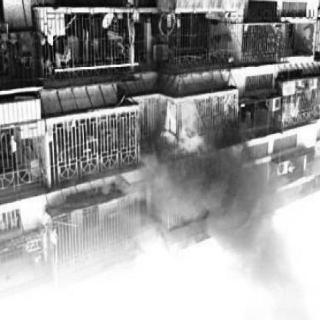Fire: (130, 90, 229, 178)
Smoke: (199, 170, 273, 272)
